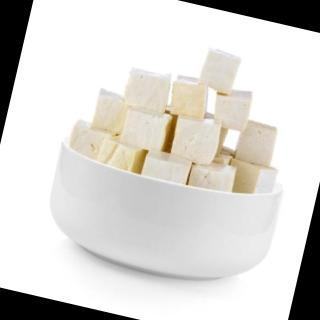Tahu: (57, 17, 302, 217)
